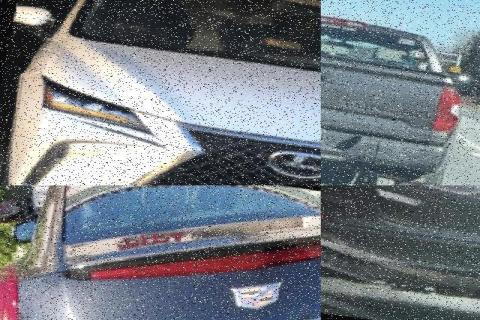LicensePlate: (369, 186, 465, 224)
